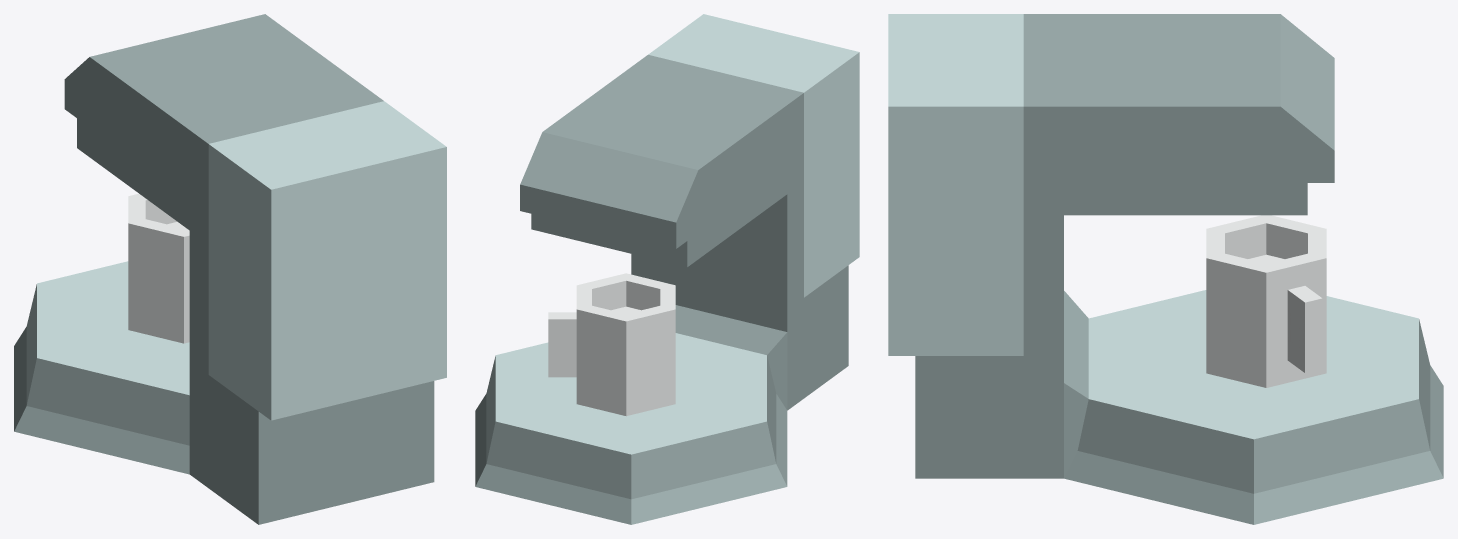
File: kitchenCoffeeMachine.glb
3 views of the same model, side by side, from view 1: azimuth 30°, elevation 25°; view 2: azimuth 150°, elevation 25°; view 3: azimuth 270°, elevation 25° (orthographic). The views are drawn at different scales.
Parts seen in each view (by area): view 1: kitchenCoffeeMachine, mug; view 2: kitchenCoffeeMachine, mug; view 3: kitchenCoffeeMachine, mug.
Boxes of the visible parts, x1,y1,x2,y2 form: kitchenCoffeeMachine: (14,14,446,524); mug: (128,193,189,343); kitchenCoffeeMachine: (475,14,859,524); mug: (548,273,675,416); kitchenCoffeeMachine: (888,14,1443,524); mug: (1206,215,1326,387).
Bounding box in the file's own units: 1.9 × 1.77 × 2.4.
